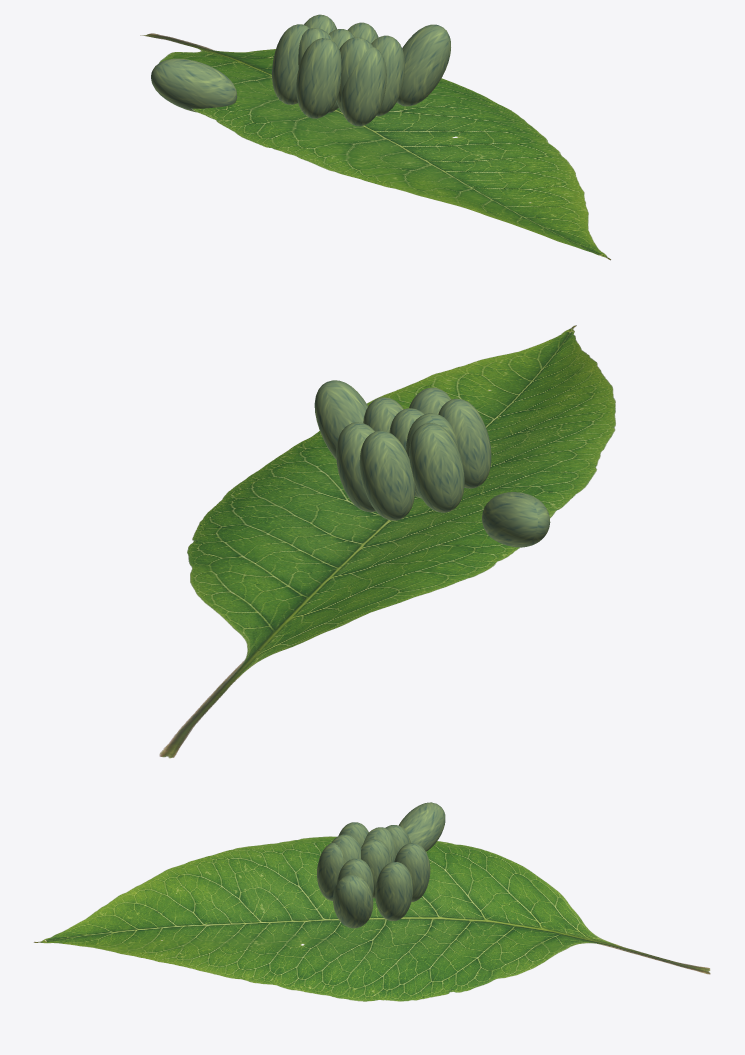
File: Rill2.fbx
The picture shows the model from 3 angles, top to bottom: view 1: azimuth 30°, elevation 25°; view 2: azimuth 150°, elevation 25°; view 3: azimuth 270°, elevation 25°; orthographic projection. The views are drawn at different scales.
Parts seen in each view (by area): view 1: Object_4, pCube2_lambert8_0.030, pCube2_lambert8_0.001, pCube2_lambert8_0.004, pCube2_lambert8_0.002, pCube2_lambert8_0.006; view 2: Object_4, pCube2_lambert8_0.030, pCube2_lambert8_0.001, pCube2_lambert8_0.004, pCube2_lambert8_0.002; view 3: Object_4, pCube2_lambert8_0.030, pCube2_lambert8_0.004, pCube2_lambert8_0.001, pCube2_lambert8_0.002, pCube2_lambert8_0.006.
Part boxes in pixels (x1,y1,x2,y2): Object_4: (140, 33, 611, 260); pCube2_lambert8_0.030: (272, 14, 404, 126); pCube2_lambert8_0.001: (151, 58, 237, 112); pCube2_lambert8_0.004: (396, 24, 450, 106); pCube2_lambert8_0.002: (336, 37, 372, 114); pCube2_lambert8_0.006: (298, 28, 338, 113); Object_4: (159, 325, 615, 758); pCube2_lambert8_0.030: (336, 397, 491, 520); pCube2_lambert8_0.001: (482, 492, 550, 547); pCube2_lambert8_0.004: (314, 380, 368, 459); pCube2_lambert8_0.002: (409, 387, 451, 414); Object_4: (33, 836, 710, 1001); pCube2_lambert8_0.030: (317, 822, 430, 920); pCube2_lambert8_0.004: (333, 874, 373, 928); pCube2_lambert8_0.001: (398, 802, 445, 851); pCube2_lambert8_0.002: (331, 834, 361, 865); pCube2_lambert8_0.006: (363, 827, 395, 861).
Bounding box in the file's own units: 6.45 × 3.28 × 14.31.
Materials: 2 (2 with a texture image).
